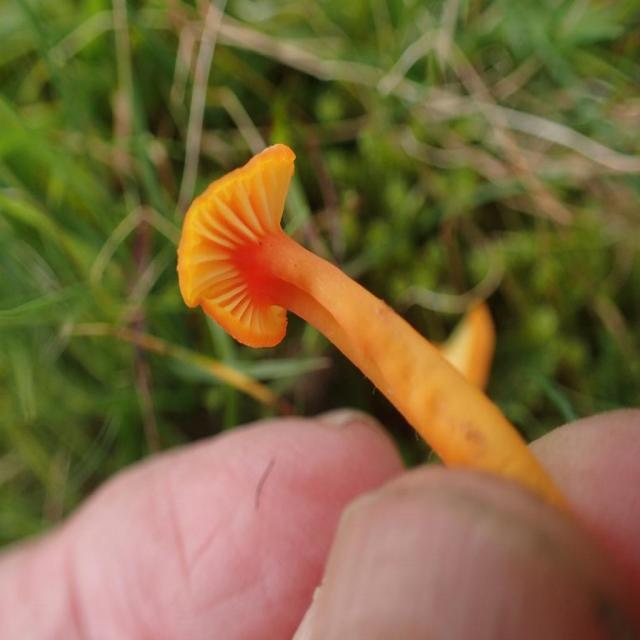Cantharellus cibarius: (178, 142, 589, 543)
